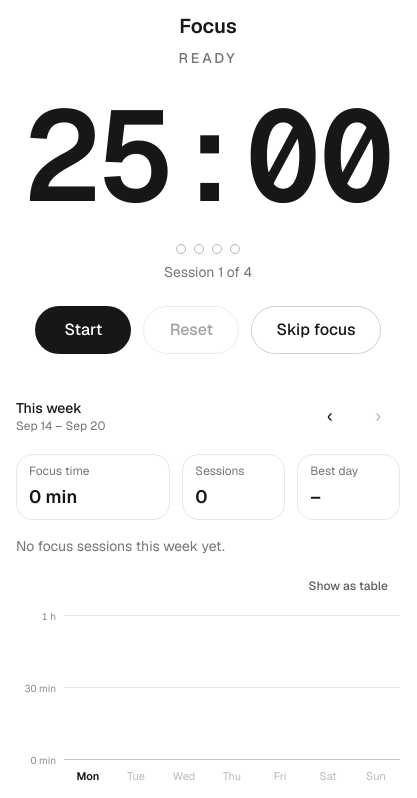
Test: running › catches up straight away when a background tab becomes visible again
Click the button "Start". click: (83, 330)
box: [35,306,131,354]
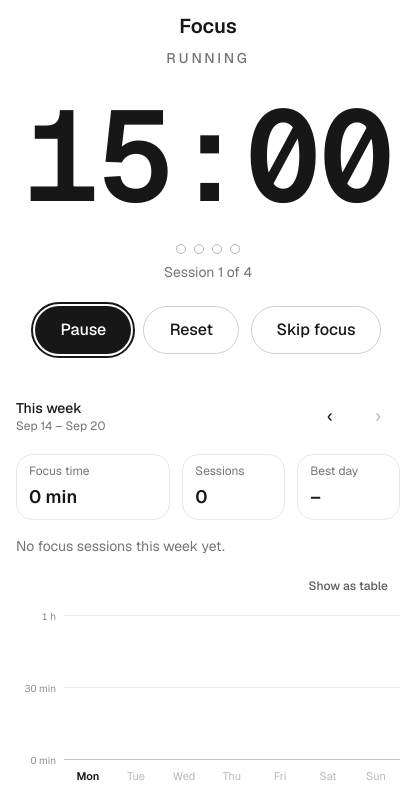
Expected: the text "15:00" is shown, [24,92,392,220]
